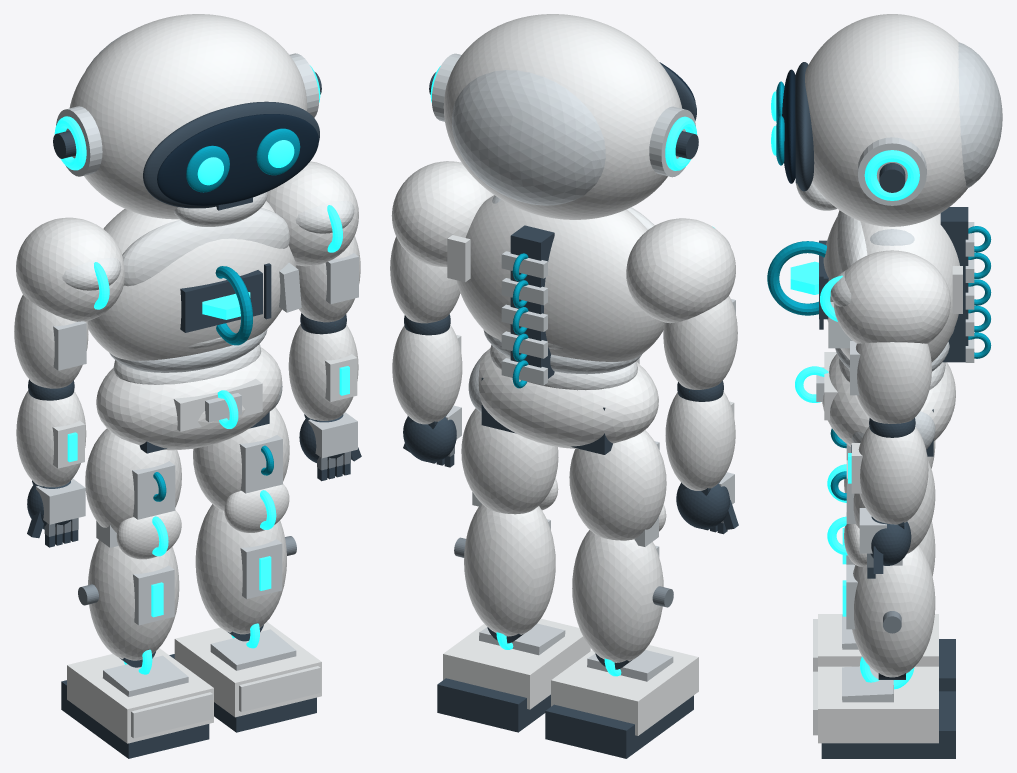
Rendered from school-ai-robot.glb.
3 renders of one model, left to right at view 1: azimuth 30°, elevation 25°; view 2: azimuth 150°, elevation 25°; view 3: azimuth 270°, elevation 25°, orthographic.
Parts seen in each view (by area): view 1: head_main_shell, chest_core, pelvis_shell, visor_glass, L_shoulder_shell, R_shin_shell, L_shin_shell, L_foot_main, chest_upper_shell, L_thigh_shell, R_shoulder_shell, R_foot_main (+45 smaller); view 2: head_main_shell, chest_core, head_rear_shell, pelvis_shell, R_shin_shell, L_shin_shell, L_shoulder_shell, L_thigh_shell, L_foot_main, R_thigh_shell, R_shoulder_shell, R_foot_main (+25 smaller); view 3: head_main_shell, R_shoulder_shell, R_shin_shell, R_foot_main, R_forearm_shell, R_upper_arm_shell, head_rear_shell, chest_core, pelvis_shell, R_foot_core, L_foot_main, back_spine_core (+31 smaller).
Boxes of the visible parts, bbox=[...] form: head_main_shell: bbox=[69, 14, 307, 219]; chest_core: bbox=[87, 201, 296, 360]; pelvis_shell: bbox=[96, 347, 282, 450]; visor_glass: bbox=[157, 114, 318, 205]; L_shoulder_shell: bbox=[16, 217, 124, 321]; R_shin_shell: bbox=[195, 504, 286, 634]; L_shin_shell: bbox=[88, 540, 179, 660]; L_foot_main: bbox=[67, 648, 213, 743]; chest_upper_shell: bbox=[122, 208, 289, 286]; L_thigh_shell: bbox=[85, 428, 181, 532]; R_shoulder_shell: bbox=[266, 161, 358, 266]; R_foot_main: bbox=[174, 622, 321, 717]; head_main_shell: bbox=[443, 14, 682, 219]; chest_core: bbox=[456, 195, 664, 361]; head_rear_shell: bbox=[452, 70, 605, 205]; pelvis_shell: bbox=[478, 348, 658, 448]; R_shin_shell: bbox=[464, 504, 555, 636]; L_shin_shell: bbox=[572, 530, 663, 662]; L_shoulder_shell: bbox=[626, 218, 735, 323]; L_thigh_shell: bbox=[569, 430, 666, 540]; L_foot_main: bbox=[551, 645, 698, 735]; R_thigh_shell: bbox=[461, 408, 558, 514]; R_shoulder_shell: bbox=[391, 161, 493, 266]; R_foot_main: bbox=[443, 618, 590, 709]; head_main_shell: bbox=[805, 14, 967, 226]; R_shoulder_shell: bbox=[833, 250, 950, 343]; R_shin_shell: bbox=[852, 545, 935, 677]; R_foot_main: bbox=[818, 666, 938, 743]; R_forearm_shell: bbox=[858, 426, 928, 524]; R_upper_arm_shell: bbox=[856, 342, 931, 423]; head_rear_shell: bbox=[958, 42, 1002, 187]; chest_core: bbox=[823, 213, 959, 362]; pelvis_shell: bbox=[822, 354, 955, 446]; R_foot_core: bbox=[821, 691, 955, 758]; L_foot_main: bbox=[818, 614, 938, 666]; back_spine_core: bbox=[940, 207, 968, 362].
Bounding box in the file's own units: 2.24 × 4.38 × 1.37.
